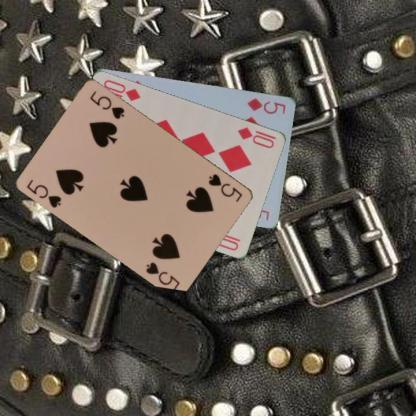10d: (235, 124, 276, 150)
5d: (244, 96, 288, 116)
5s: (24, 176, 63, 209), (206, 171, 244, 204)
